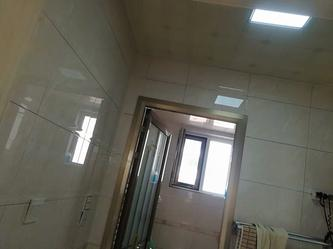switch: (31, 204, 45, 218)
